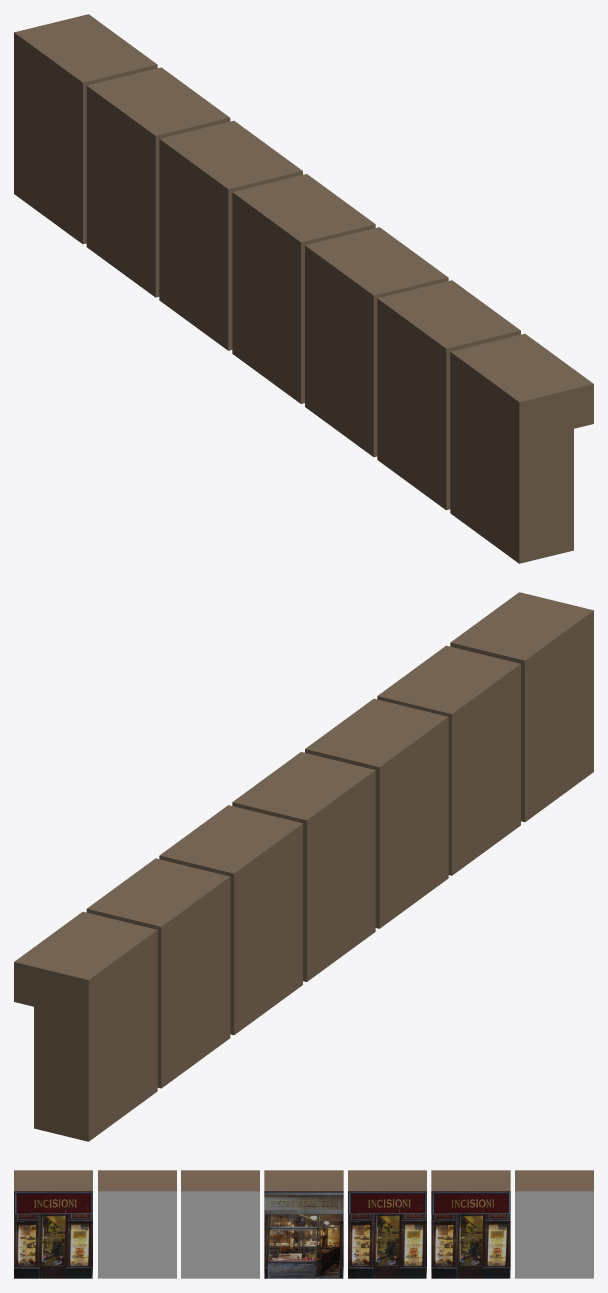
Rendered from negozi esterni.fbx.
3 views of the same model, one above another, from view 1: azimuth 30°, elevation 25°; view 2: azimuth 150°, elevation 25°; view 3: azimuth 270°, elevation 25° (orthographic). The views are drawn at different scales.
Visible parts, largest first — view 1: Polygon_7, Polygon_6, Polygon_2, Polygon_3, Polygon, Polygon_4, Polygon_5; view 2: Polygon, Polygon_2, Polygon_5, Polygon_7, Polygon_3, Polygon_4, Polygon_6; view 3: Polygon_2, Polygon_4, Polygon, Polygon_3, Polygon_5, Polygon_6, Polygon_7.
Boxes of the visible parts, x1=… form: Polygon_7: x1=450, y1=333, x2=593, y2=563; Polygon_6: x1=377, y1=280, x2=520, y2=510; Polygon_2: x1=86, y1=67, x2=230, y2=297; Polygon_3: x1=159, y1=120, x2=302, y2=350; Polygon: x1=14, y1=14, x2=157, y2=244; Polygon_4: x1=232, y1=174, x2=375, y2=403; Polygon_5: x1=305, y1=227, x2=448, y2=457; Polygon: x1=14, y1=911, x2=157, y2=1141; Polygon_2: x1=86, y1=858, x2=230, y2=1088; Polygon_5: x1=305, y1=698, x2=448, y2=928; Polygon_7: x1=450, y1=592, x2=593, y2=822; Polygon_3: x1=159, y1=805, x2=302, y2=1035; Polygon_4: x1=232, y1=752, x2=375, y2=981; Polygon_6: x1=377, y1=645, x2=520, y2=875; Polygon_2: x1=431, y1=1170, x2=510, y2=1278; Polygon_4: x1=264, y1=1170, x2=343, y2=1278; Polygon: x1=515, y1=1170, x2=593, y2=1278; Polygon_3: x1=348, y1=1170, x2=426, y2=1278; Polygon_5: x1=181, y1=1170, x2=259, y2=1278; Polygon_6: x1=98, y1=1170, x2=176, y2=1278; Polygon_7: x1=14, y1=1170, x2=92, y2=1278.
Bounding box in the file's own units: 172 × 356 × 2018.
